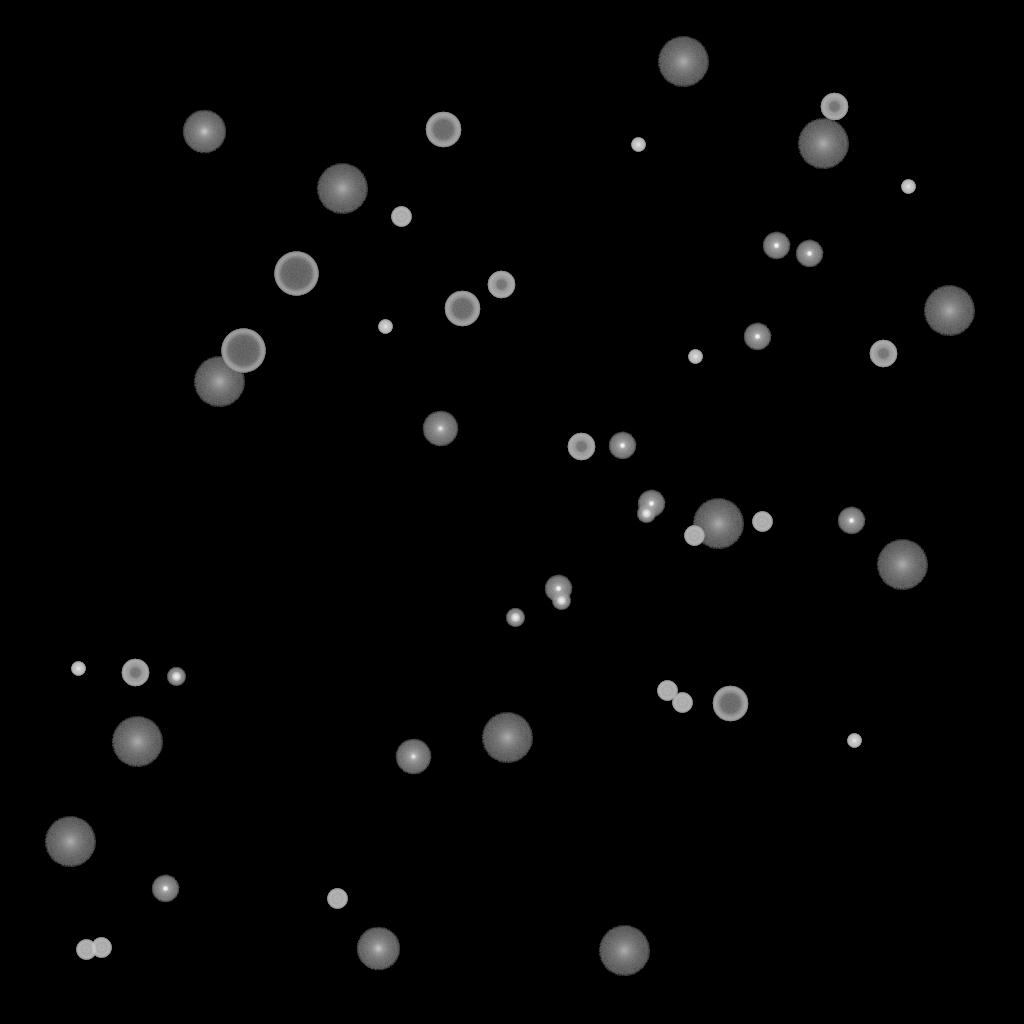depth:-10: (544, 575, 572, 603), (837, 507, 865, 535), (795, 240, 823, 268), (762, 232, 790, 260), (151, 875, 179, 903), (608, 432, 636, 460), (637, 490, 665, 518), (743, 323, 771, 351)
depth:-20: (506, 609, 524, 627), (552, 592, 570, 610), (167, 668, 185, 686), (637, 505, 655, 523)
depth:-30: (631, 138, 645, 152), (847, 734, 861, 748), (901, 180, 915, 194), (688, 350, 702, 364), (378, 320, 392, 334), (71, 662, 85, 676)
depth:-40: (76, 940, 96, 960), (672, 693, 692, 713), (327, 889, 347, 909), (657, 681, 677, 701), (91, 938, 111, 958), (684, 526, 704, 546), (391, 207, 411, 227), (752, 512, 772, 532)
depth:-50: (121, 659, 149, 687), (567, 433, 595, 461), (487, 271, 515, 299), (820, 93, 848, 121), (869, 340, 897, 368)
depth:-60: (712, 686, 748, 722), (425, 112, 461, 148), (444, 291, 480, 327)
depth:-70: (221, 329, 265, 373), (274, 252, 318, 296)
depth:0: (422, 411, 458, 447), (395, 739, 431, 775)
depth:10: (182, 110, 226, 154), (356, 927, 400, 971)
depth:20: (111, 717, 163, 767), (481, 713, 533, 763), (193, 357, 245, 407), (923, 286, 975, 336), (657, 37, 709, 87), (44, 817, 96, 867), (692, 499, 744, 549), (876, 540, 928, 590), (316, 164, 368, 214), (598, 926, 650, 976), (797, 119, 849, 169)
